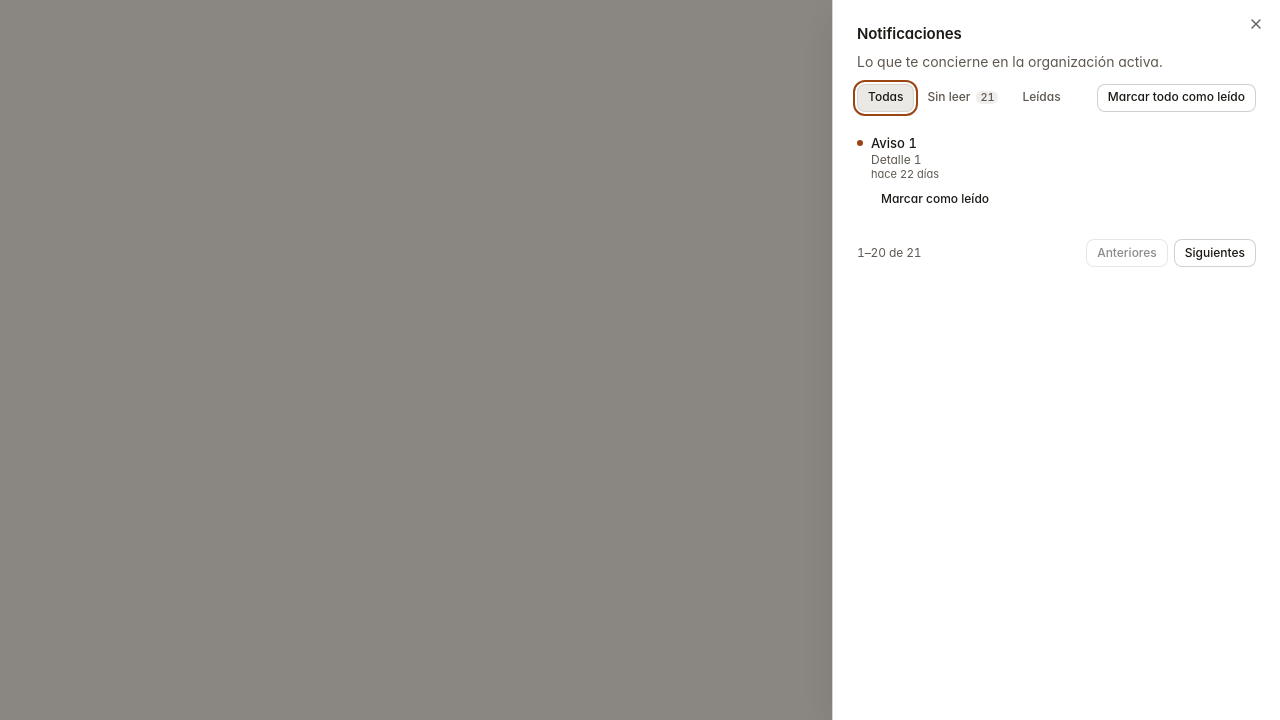
Scenario: VerTodasSheet › pagina con «Siguientes» y dice en qué tramo está
Expected: the text "1–20 de 21" is shown, [857,245,922,261]
Expected: the button "Anteriores" is disabled, [1086,239,1168,267]
Step 1. Click the button "Siguientes" → (1215, 253), box [1174,239,1256,267]
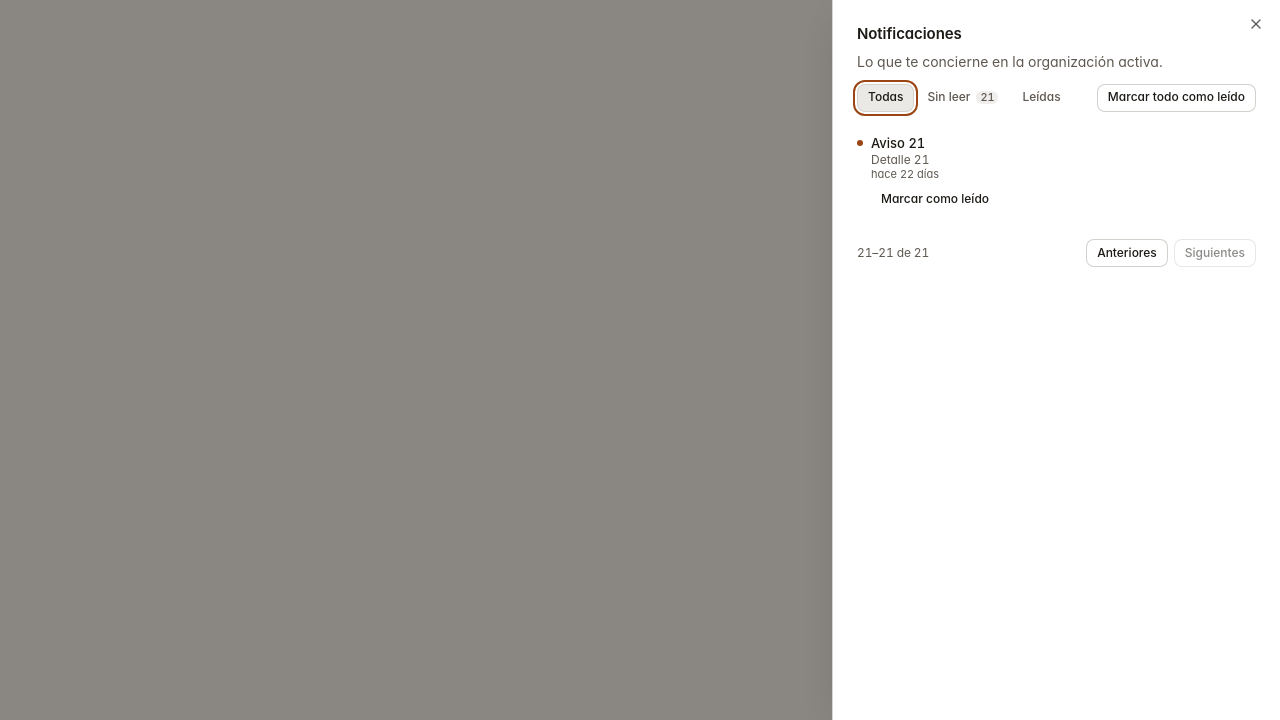
Result: the text "21–21 de 21" is shown at [857,245,929,261]
Result: the button "Siguientes" is disabled at [1174,239,1256,267]
